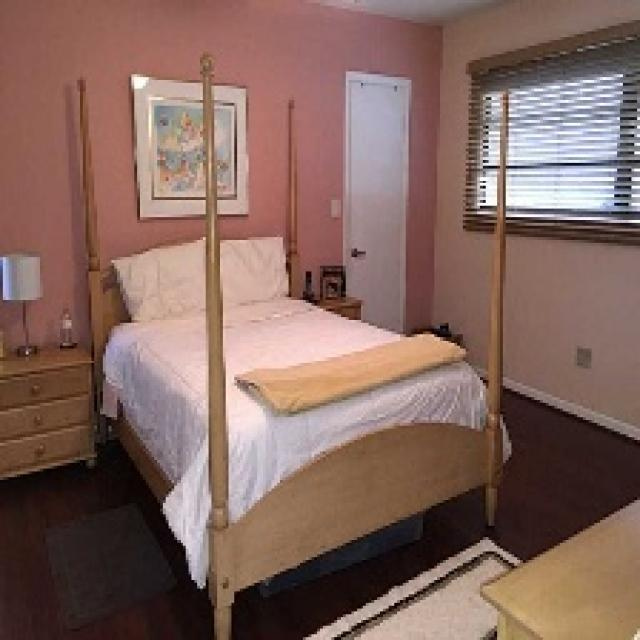Bed: (74, 52, 512, 637)
